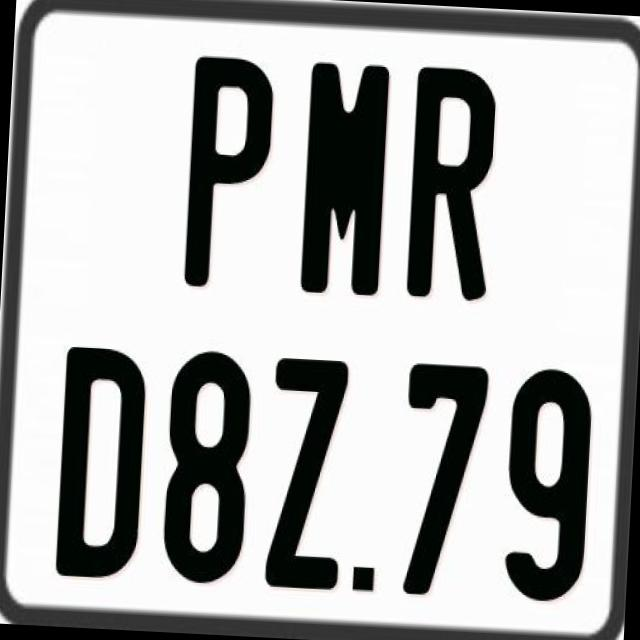7: (398, 360, 497, 598)
8: (160, 349, 258, 595)
9: (500, 366, 592, 610)
D: (56, 344, 148, 583)
M: (298, 57, 390, 300)
P: (183, 54, 276, 288)
R: (406, 62, 498, 301)
Z: (264, 354, 352, 592)
